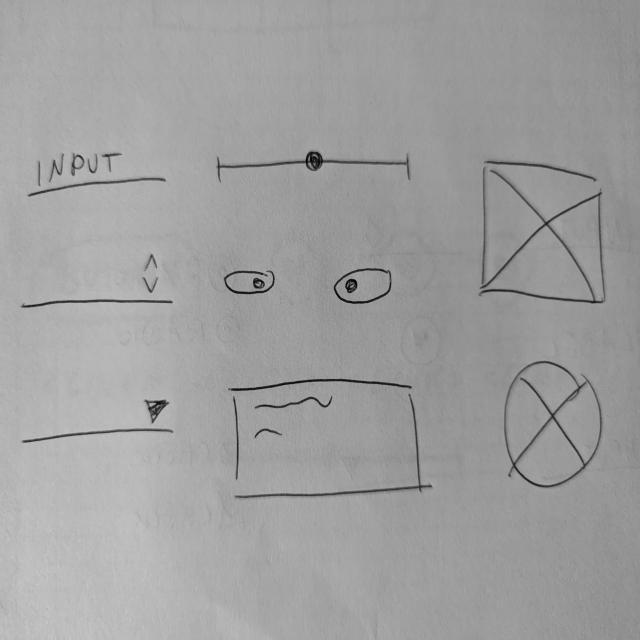image: (478, 158, 608, 308), (502, 358, 606, 489)
input: (25, 148, 169, 202)
number-input: (18, 249, 176, 314)
select: (19, 392, 178, 449)
slider: (214, 144, 416, 184)
textarea: (228, 376, 426, 504)
toggle: (332, 265, 396, 306), (223, 264, 278, 298)
